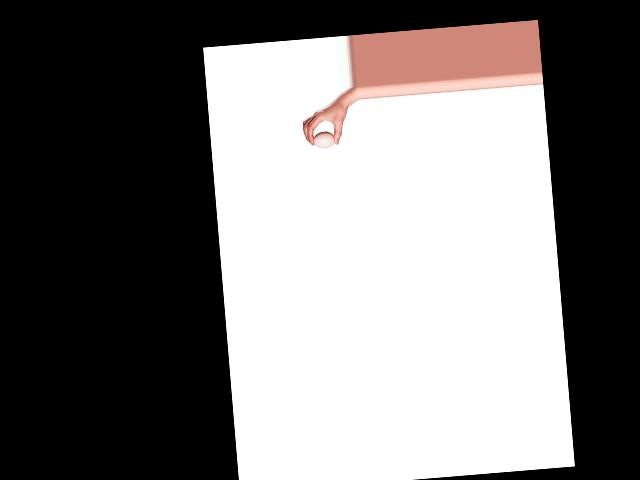egg: (313, 130, 335, 148)
